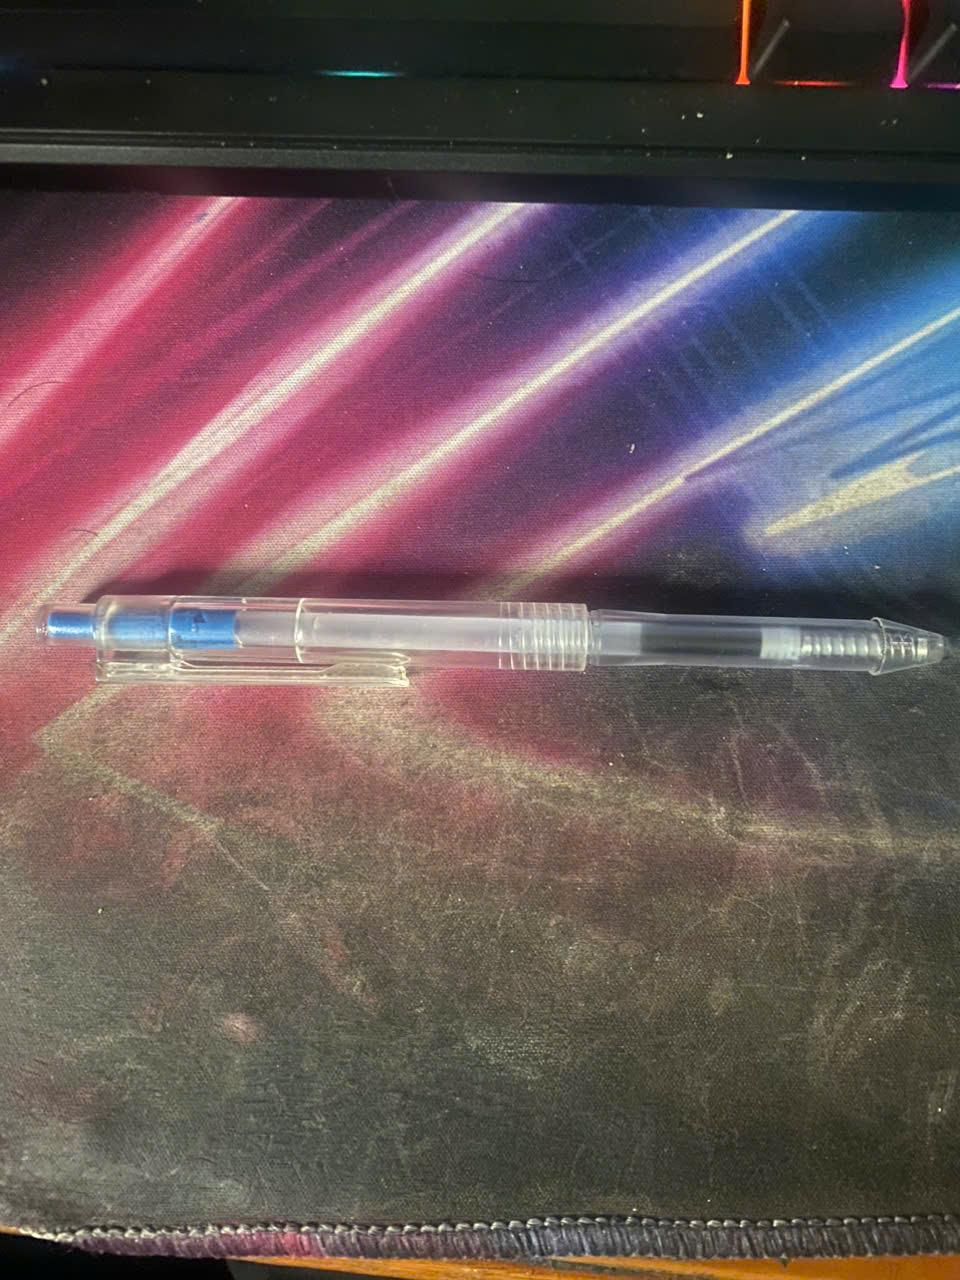butbi: (515, 541, 959, 696), (264, 559, 499, 600), (84, 556, 255, 601), (696, 670, 873, 702)
